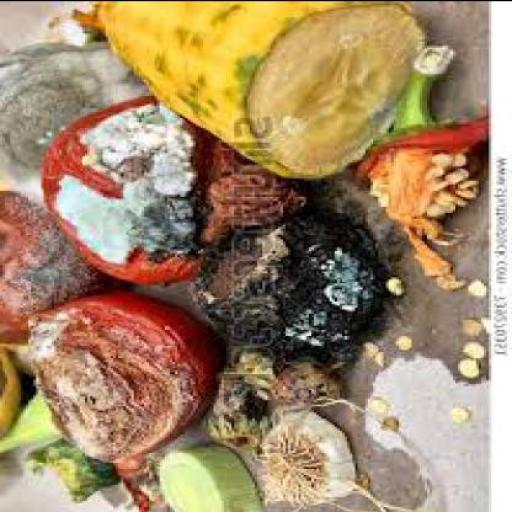biodegradable: (87, 1, 427, 176), (39, 95, 265, 280), (20, 286, 216, 462), (353, 43, 489, 270), (188, 204, 373, 355), (0, 39, 137, 201), (0, 184, 127, 346), (249, 407, 402, 510), (154, 439, 255, 510), (26, 433, 113, 502), (206, 163, 306, 222), (0, 344, 49, 452), (203, 361, 262, 443), (273, 353, 345, 403), (111, 450, 167, 510), (34, 6, 108, 48), (227, 341, 278, 393), (424, 270, 458, 286), (456, 338, 486, 354), (455, 355, 479, 372), (375, 411, 399, 427), (445, 401, 468, 417), (376, 274, 396, 292), (466, 274, 485, 292), (472, 312, 488, 330), (355, 465, 365, 490), (391, 327, 404, 344), (461, 312, 473, 330), (366, 391, 382, 403), (370, 349, 378, 361), (363, 341, 371, 348)
